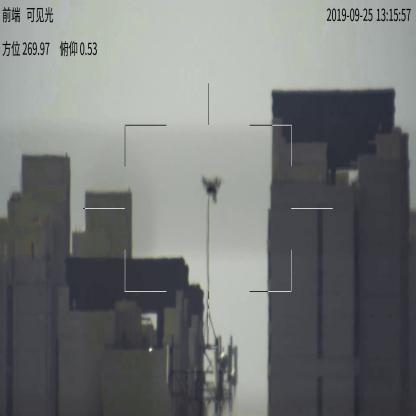uav: (201, 174, 222, 202)
